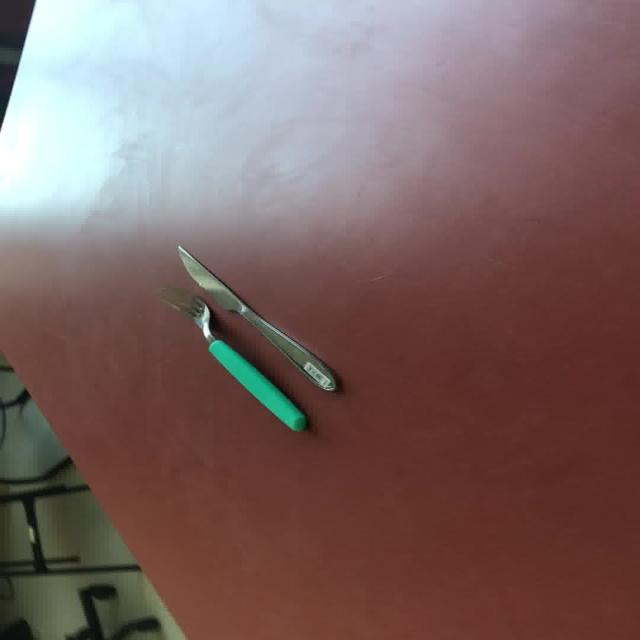fork: (158, 285, 308, 432)
knife fork: (174, 244, 338, 392), (158, 285, 308, 432)
